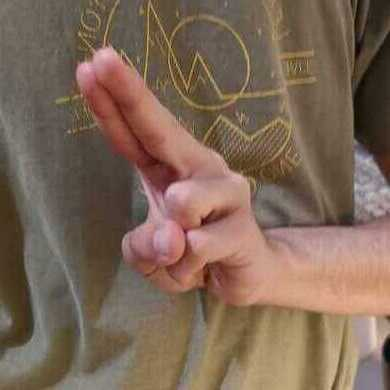U: (73, 48, 269, 308)
